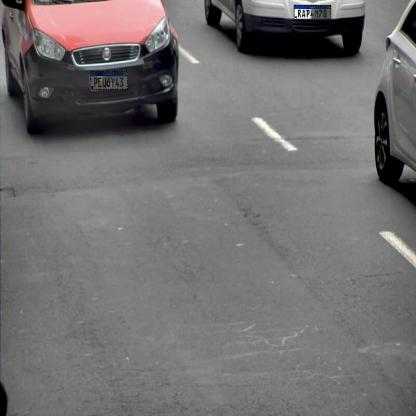PlacaM: (90, 71, 128, 90), (294, 5, 331, 19)
